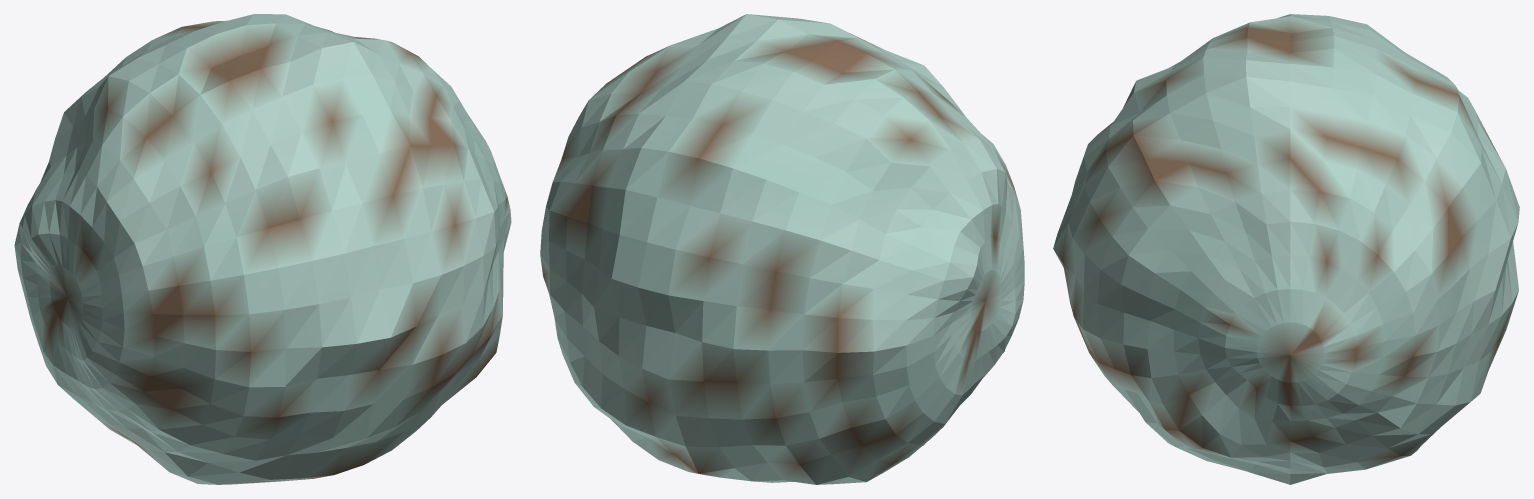
File: mintchoco.glb
3 renders of one model, left to right at view 1: azimuth 30°, elevation 25°; view 2: azimuth 150°, elevation 25°; view 3: azimuth 270°, elevation 25°, orthographic. The views are drawn at different scales.
Parts seen in each view (by area): view 1: mintchoco; view 2: mintchoco; view 3: mintchoco.
Boxes of the visible parts, bbox=[...] form: mintchoco: bbox=[14, 14, 511, 484]; mintchoco: bbox=[540, 14, 1024, 484]; mintchoco: bbox=[1053, 14, 1519, 484].
Bounding box in the file's own units: 1.08 × 1.02 × 1.03.
